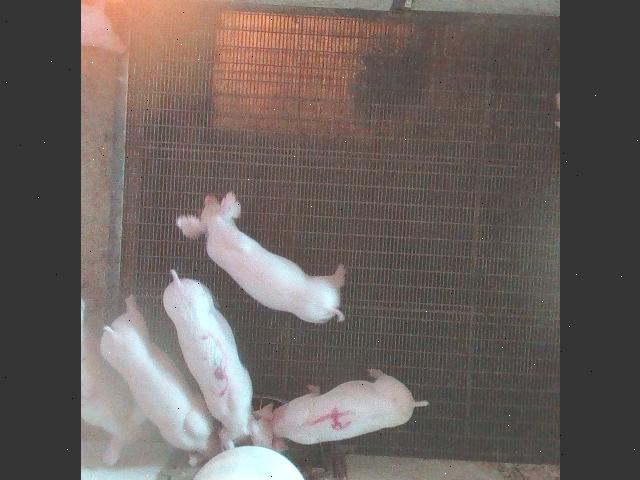pig-3: (163, 270, 270, 449)
pig-4: (271, 369, 426, 444)
